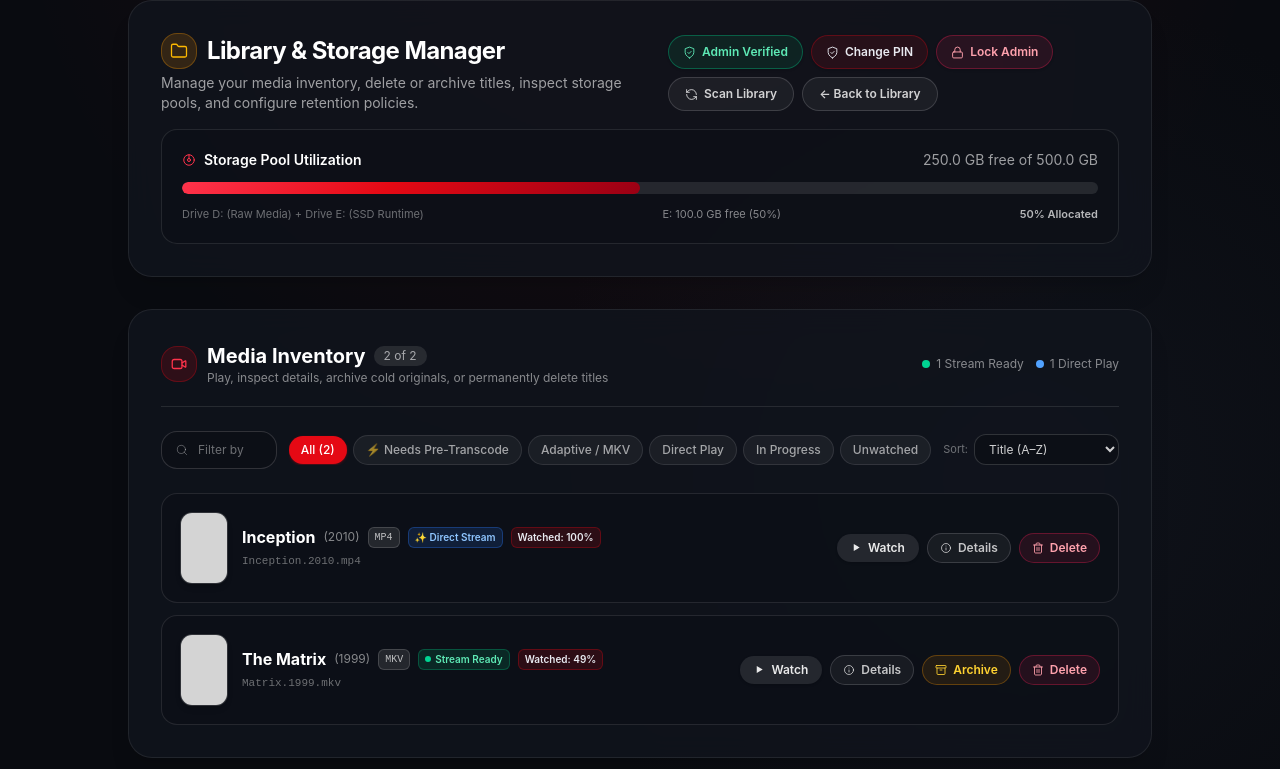
Test: ManagePage Comprehensive Edge Cases › filters movies by search query and category chips
Expected: the link "The Matrix" is shown, [242,647,326,671]
Note: Filter by search query
Step 1. Type "Matrix" into the field with placeholder "Filter by title, filename, or year…" → [219, 450], box [161,430,277,468]
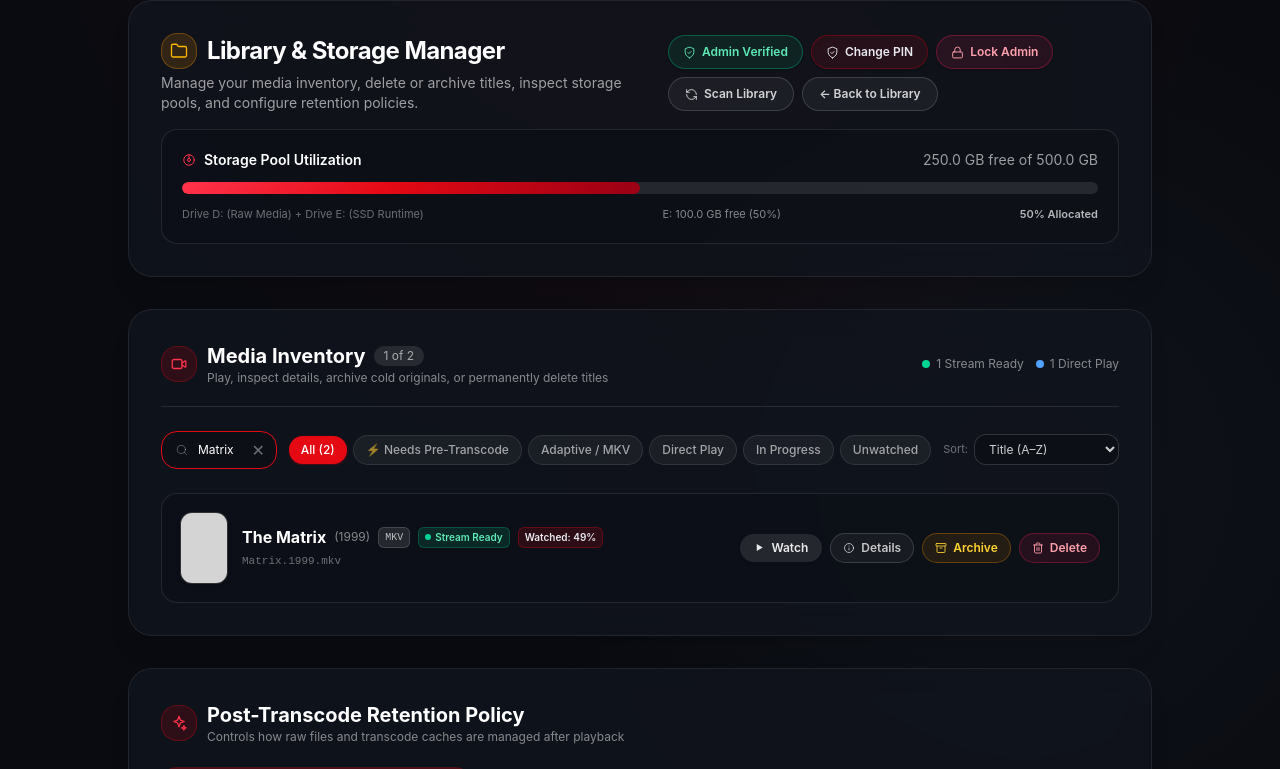
Expected: the link "The Matrix" is shown, [242,525,326,549]
Expected: the link "Inception" is gone
Note: Clear search query
Step 2. Clear the field with placeholder "Filter by title, filename, or year…" → [219, 450], box [161,430,277,468]
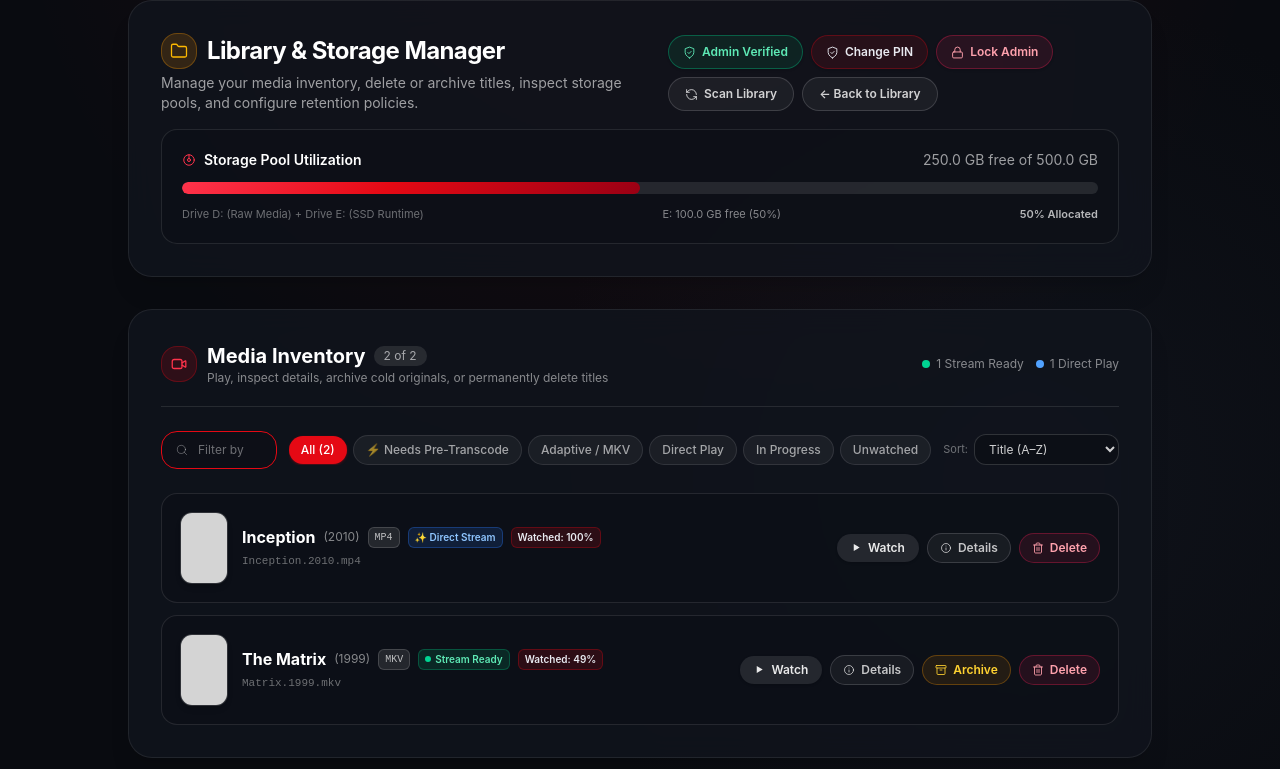
Expected: the link "Inception" is shown, [242,525,316,549]
Note: Filter by Direct play (Inception is .mp4)
Step 3. Click the button "Direct Play" → [693, 450], box [649,434,737,464]
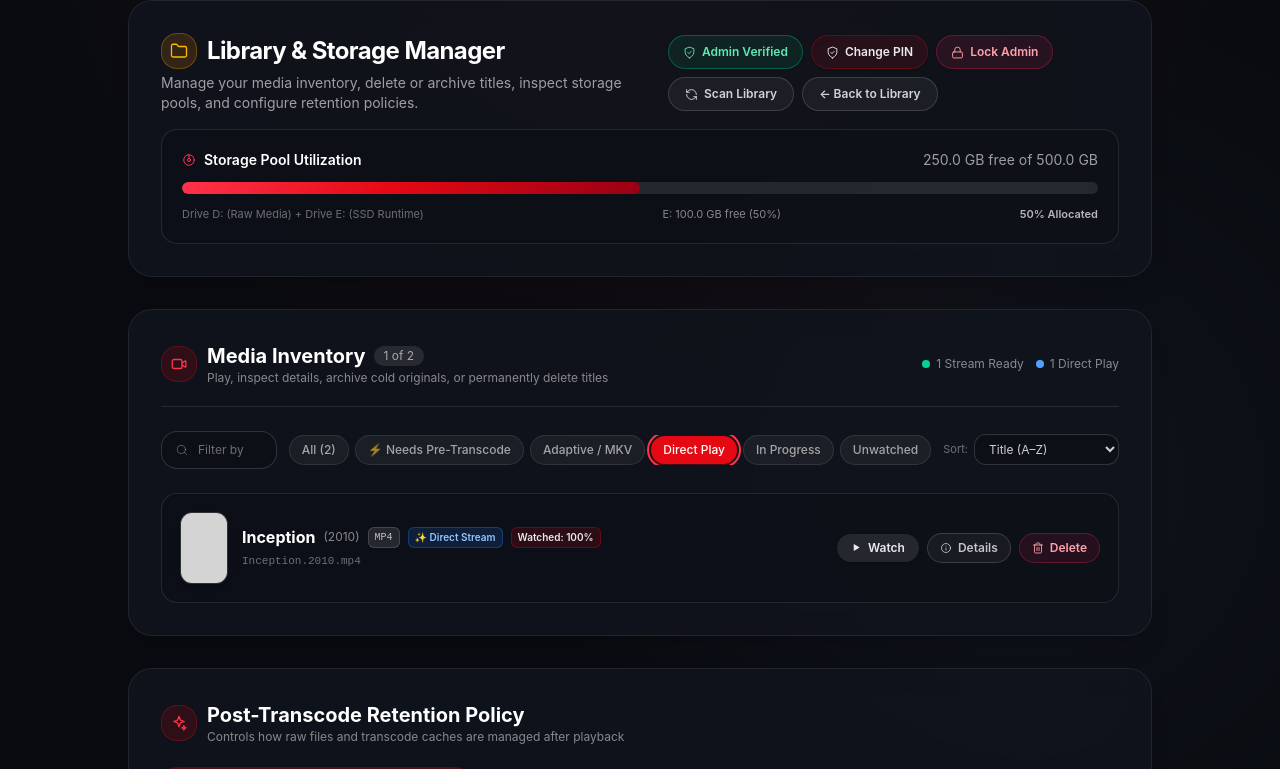
Expected: the link "Inception" is shown, [242,525,316,549]
Expected: the link "The Matrix" is gone
Note: Filter by Adaptive (.mkv)
Step 4. Click the button "Adaptive / MKV" → [588, 450], box [530,434,645,464]
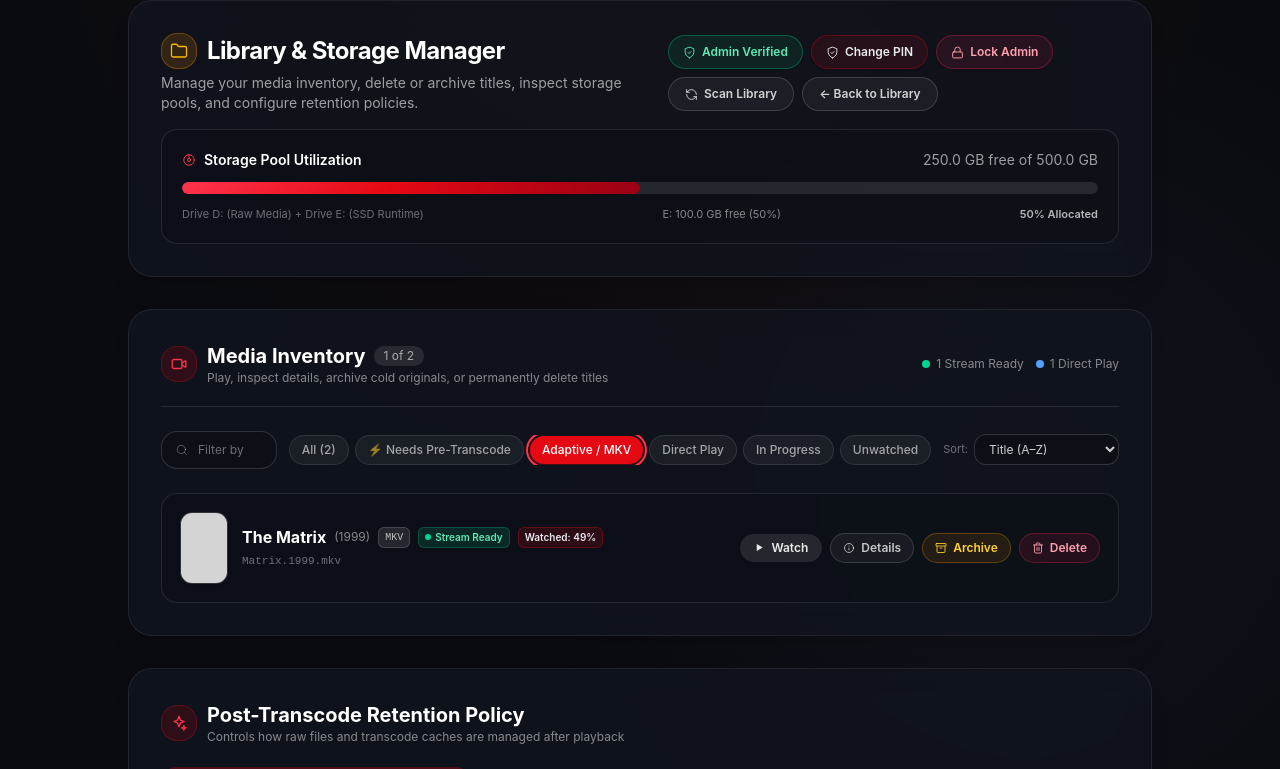
Expected: the link "The Matrix" is shown, [242,525,326,549]
Expected: the link "Inception" is gone
